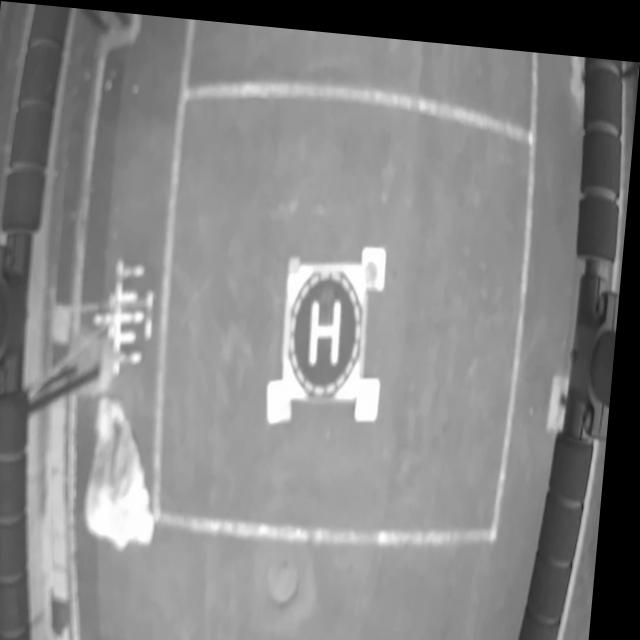Helipad: (314, 291, 344, 357)
